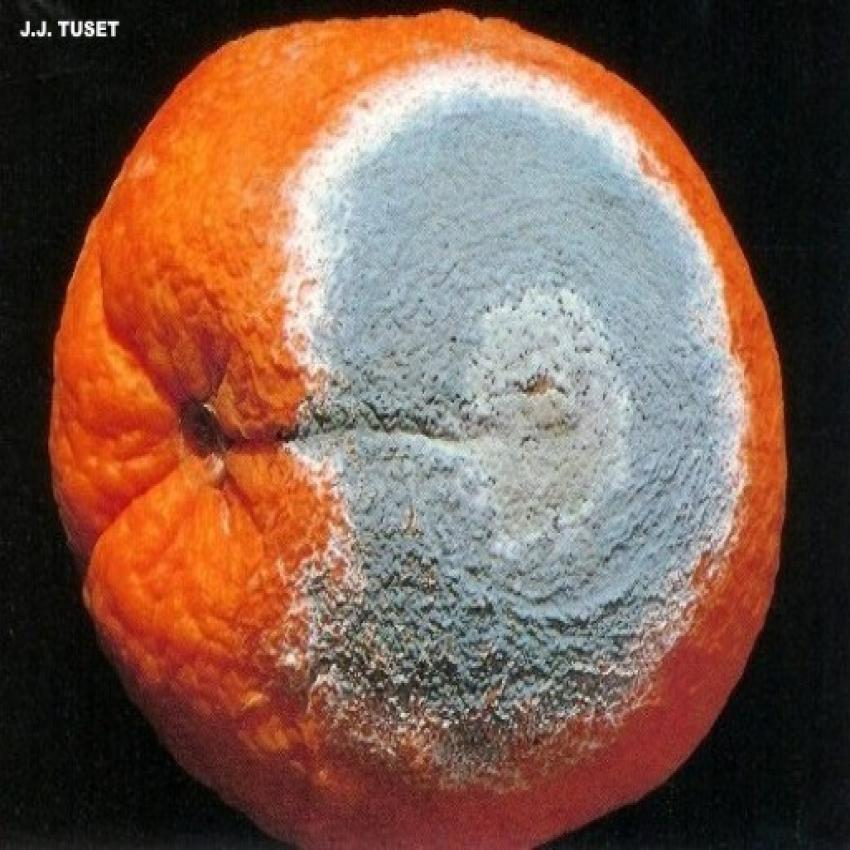Mal estado: (46, 9, 801, 844)
